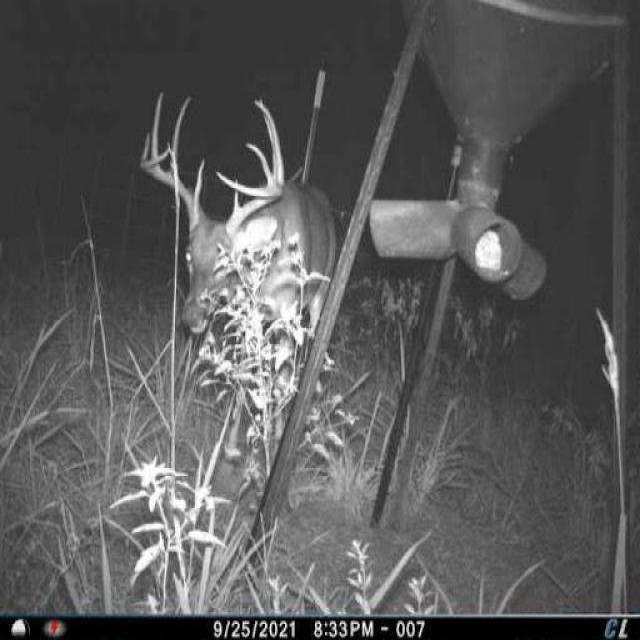deer: (135, 85, 345, 492)
